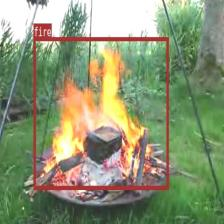fire: (34, 36, 168, 189)
